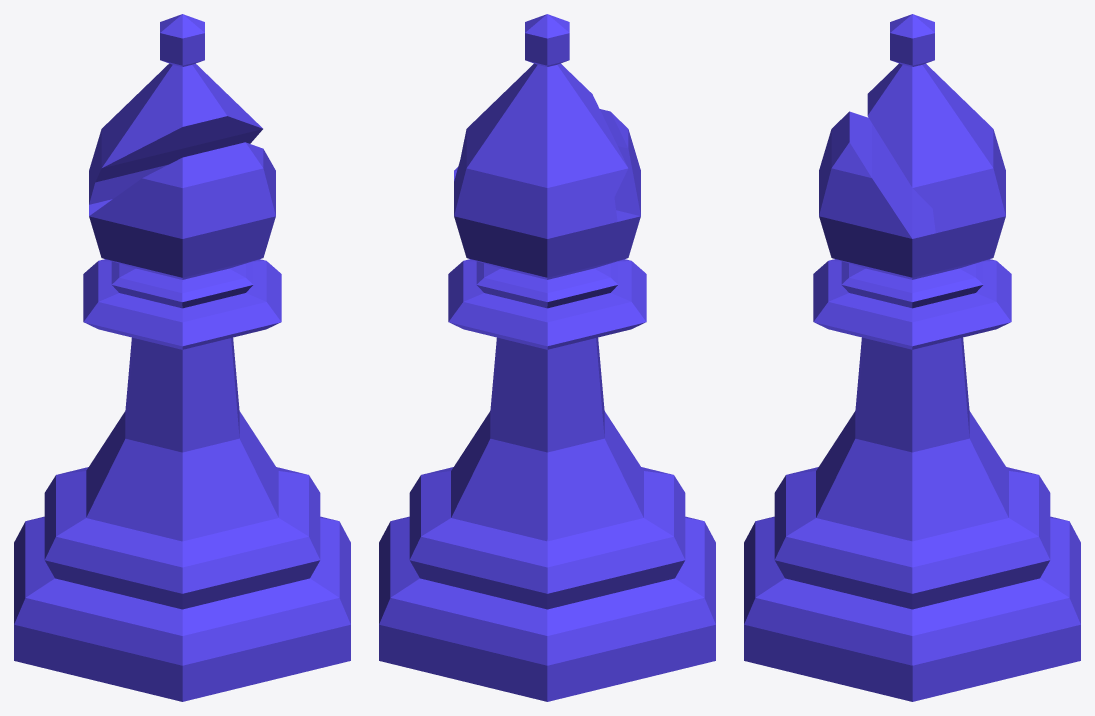
The model's file is blue-bishop.glb.
The picture shows the model from 3 angles, left to right: view 1: azimuth 30°, elevation 25°; view 2: azimuth 150°, elevation 25°; view 3: azimuth 270°, elevation 25°; orthographic projection.
Visible parts, largest first — view 1: Bishop; view 2: Bishop; view 3: Bishop.
Part boxes in pixels (x1,y1,x2,y2): Bishop: [14, 14, 350, 701]; Bishop: [379, 14, 715, 701]; Bishop: [744, 14, 1080, 701].
Bounding box in the file's own units: 0.8763 × 1.51 × 0.7589.
